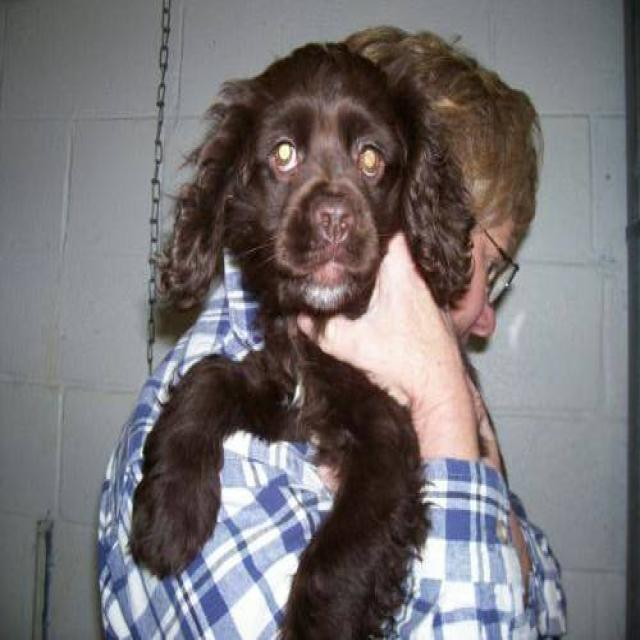dog: (125, 24, 528, 638)
